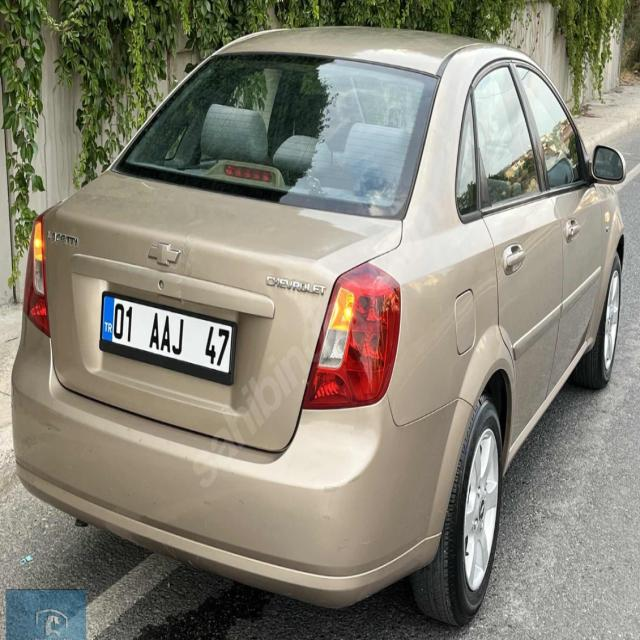chevrolet: (146, 238, 183, 274)
